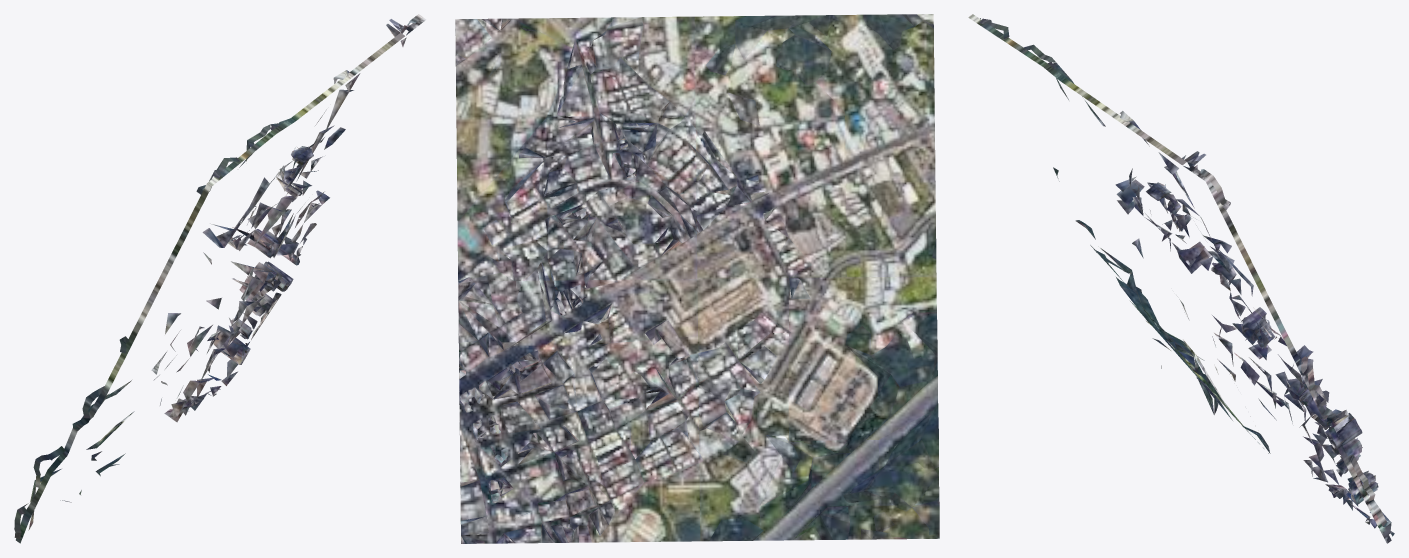
3 views of the same model, side by side, from view 1: azimuth 30°, elevation 25°; view 2: azimuth 150°, elevation 25°; view 3: azimuth 270°, elevation 25° (orthographic). The views are drawn at different scales.
Size of the model in its own units: 1236 by 1127 by 1041.
Materials: 2 (2 with a texture image).
